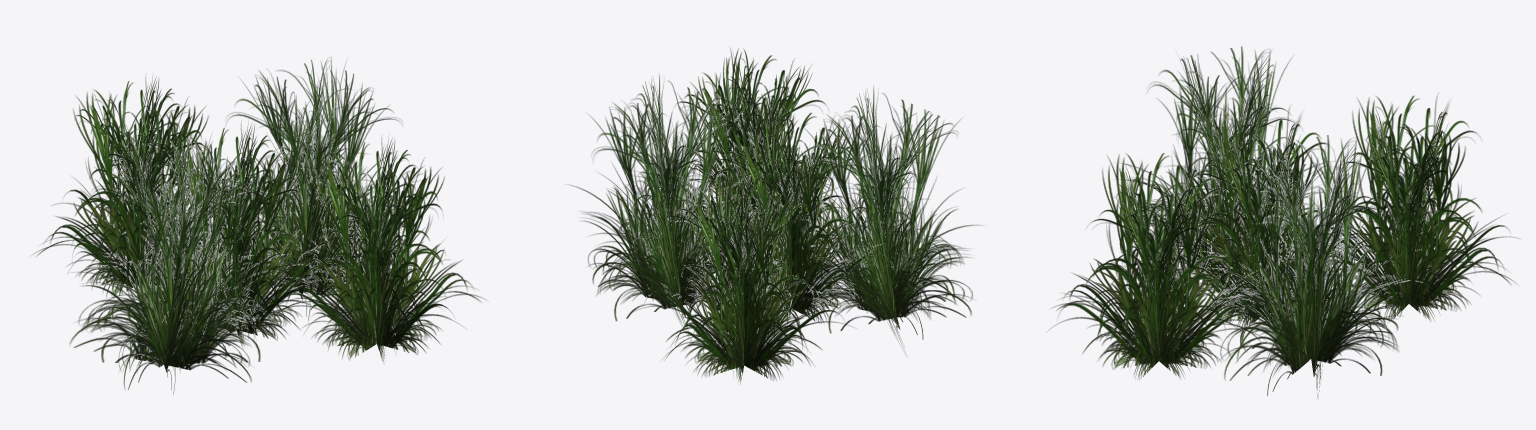
File: grass.glb
The picture shows the model from 3 angles, left to right: view 1: azimuth 30°, elevation 25°; view 2: azimuth 150°, elevation 25°; view 3: azimuth 270°, elevation 25°; orthographic projection. The views are drawn at different scales.
Visible parts, largest first — view 1: group_2_grass_01_0_9, group_3_grass_02_0_7, group_1_grass_02_0_11, group_0_grass_01_0_13, group_4_grass_02_0_5; view 2: group_2_grass_01_0_9, group_1_grass_02_0_11, group_0_grass_01_0_13, group_4_grass_02_0_5, group_3_grass_02_0_7; view 3: group_0_grass_01_0_13, group_3_grass_02_0_7, group_1_grass_02_0_11, group_4_grass_02_0_5, group_2_grass_01_0_9.
Part boxes in pixels (bbox=[...]): group_2_grass_01_0_9: bbox=[69, 131, 285, 394]; group_3_grass_02_0_7: bbox=[270, 138, 485, 361]; group_1_grass_02_0_11: bbox=[33, 77, 222, 298]; group_0_grass_01_0_13: bbox=[209, 57, 414, 320]; group_4_grass_02_0_5: bbox=[134, 123, 330, 347]; group_2_grass_01_0_9: bbox=[803, 86, 979, 354]; group_1_grass_02_0_11: bbox=[634, 163, 851, 383]; group_0_grass_01_0_13: bbox=[570, 74, 754, 340]; group_4_grass_02_0_5: bbox=[716, 106, 889, 324]; group_3_grass_02_0_7: bbox=[649, 48, 845, 240]; group_0_grass_01_0_13: bbox=[1204, 135, 1416, 397]; group_3_grass_02_0_7: bbox=[1048, 150, 1264, 379]; group_1_grass_02_0_11: bbox=[1330, 93, 1518, 322]; group_4_grass_02_0_5: bbox=[1177, 107, 1363, 332]; group_2_grass_01_0_9: bbox=[1119, 46, 1332, 287].
Bounding box in the file's own units: 1.82 × 0.9809 × 1.95.
Materials: 2 (2 with a texture image).
